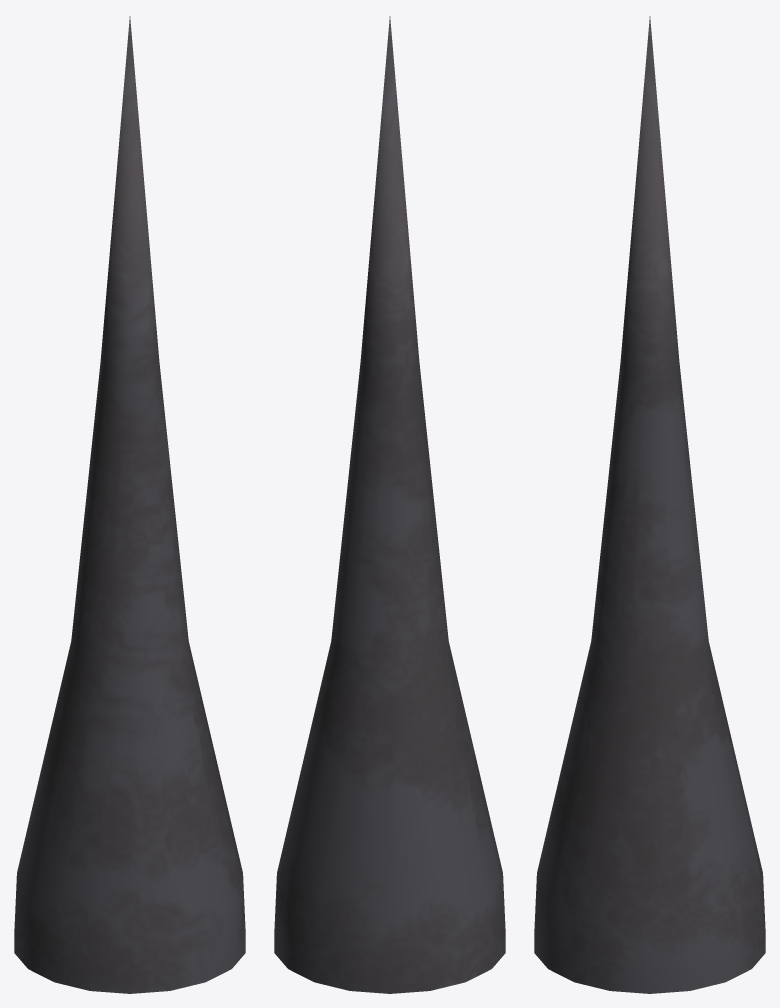
The model's file is stalag1.fbx.
The picture shows the model from 3 angles, left to right: view 1: azimuth 30°, elevation 25°; view 2: azimuth 150°, elevation 25°; view 3: azimuth 270°, elevation 25°; orthographic projection.
Visible parts, largest first — view 1: Stalag1; view 2: Stalag1; view 3: Stalag1.
Part boxes in pixels (left/top/right/bottom): Stalag1: left=14, top=16, right=245, bottom=993; Stalag1: left=274, top=16, right=505, bottom=993; Stalag1: left=534, top=16, right=765, bottom=993.
Size of the model in its own units: 55.27 by 241 by 54.43.
Materials: 1 (1 with a texture image).
